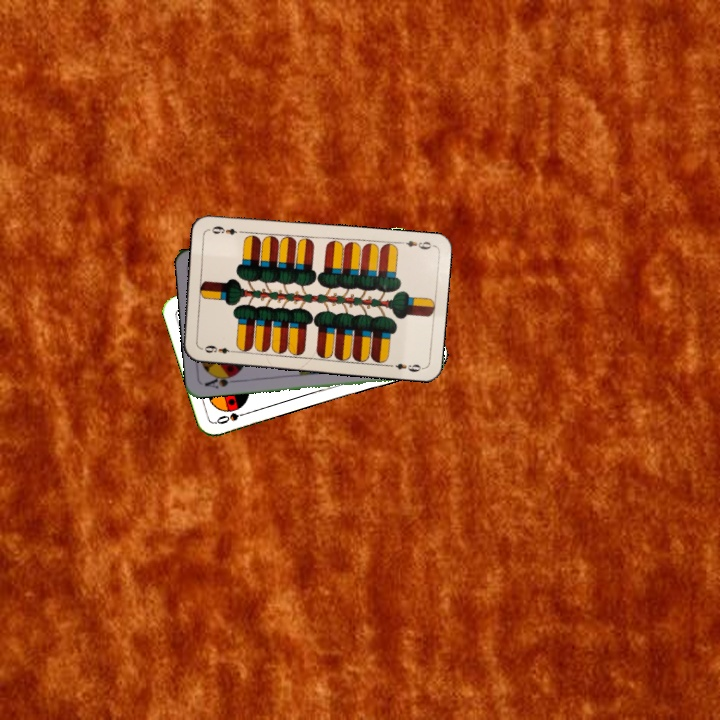E9: (395, 236, 435, 252), (197, 341, 237, 356)
SA: (201, 370, 240, 391)
SO: (212, 408, 252, 427)
